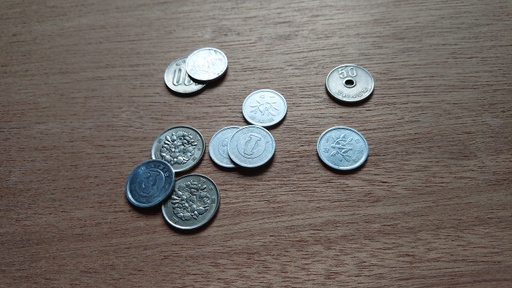100yen: (160, 174, 219, 231), (151, 125, 205, 174), (163, 55, 212, 95)
1yen: (125, 159, 174, 208), (316, 126, 367, 171), (228, 125, 274, 169), (208, 125, 254, 169), (242, 89, 286, 128), (185, 47, 228, 82)
50yen: (326, 64, 374, 103)
